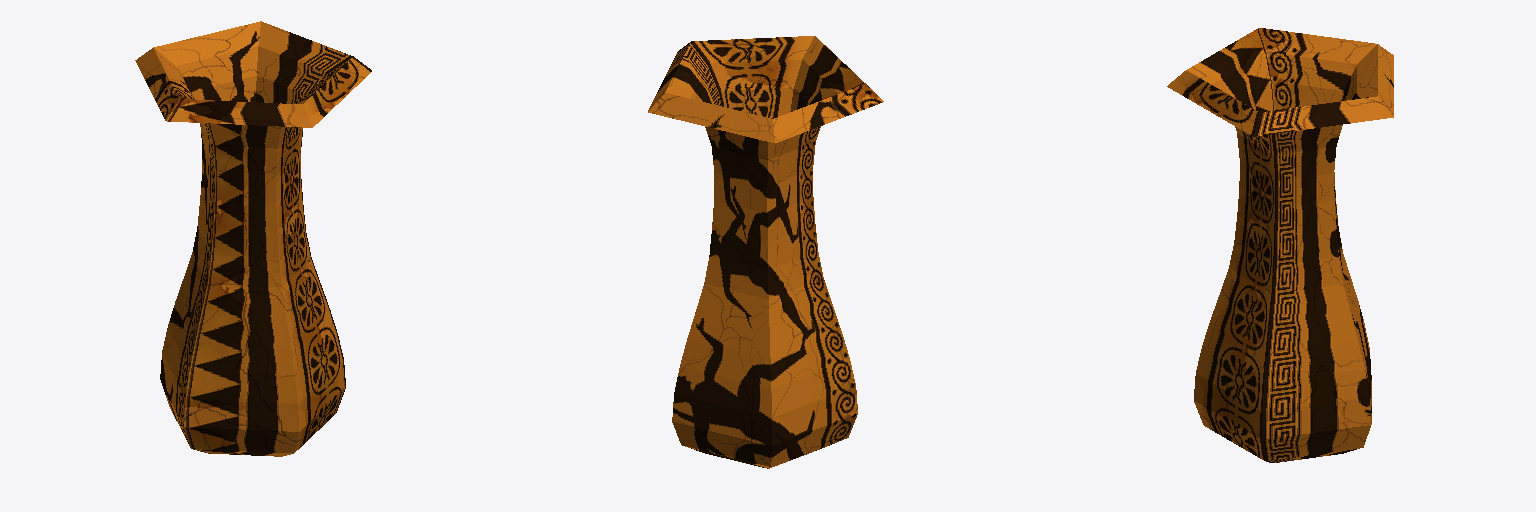
3 views of the same model, side by side, from view 1: azimuth 30°, elevation 25°; view 2: azimuth 150°, elevation 25°; view 3: azimuth 270°, elevation 25° (orthographic).
Visible parts, largest first — view 1: Vase; view 2: Vase; view 3: Vase.
Part boxes in pixels (left/top/right/bottom): Vase: left=135, top=21, right=371, bottom=456; Vase: left=648, top=36, right=883, bottom=468; Vase: left=1167, top=28, right=1393, bottom=462.
Size of the model in its own units: 80.57 by 138 by 76.63.
Materials: 1 (1 with a texture image).